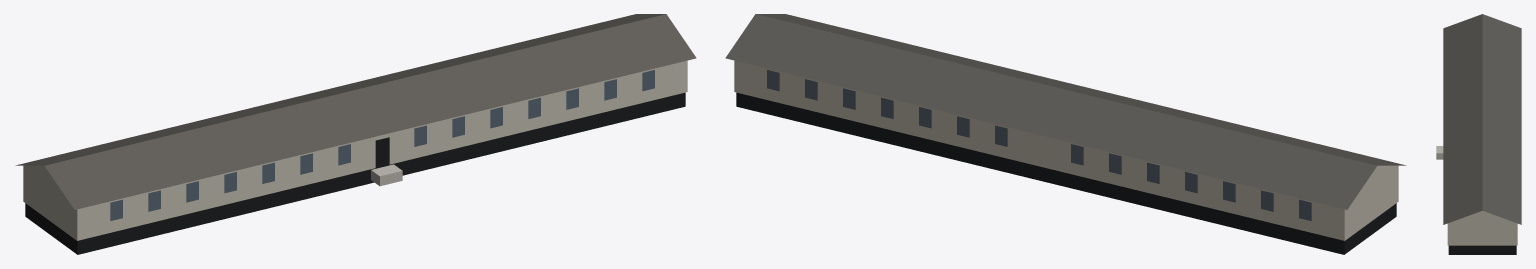
The model's file is lru-temporary-1961-1.glb.
3 views of the same model, side by side, from view 1: azimuth 30°, elevation 25°; view 2: azimuth 150°, elevation 25°; view 3: azimuth 270°, elevation 25° (orthographic). The views are drawn at different scales.
Parts seen in each view (by area): view 1: lru_temporary_1961_1; view 2: lru_temporary_1961_1; view 3: lru_temporary_1961_1.
Boxes of the visible parts, box(x1,y1,x2,y2) form: lru_temporary_1961_1: box(15, 14, 696, 254); lru_temporary_1961_1: box(725, 14, 1406, 254); lru_temporary_1961_1: box(1436, 14, 1521, 254).
Bounding box in the file's own units: 49.09 × 5.41 × 9.02.
